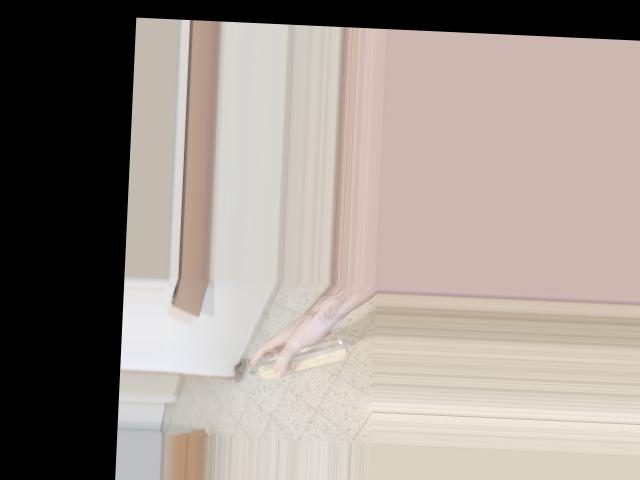cheese: (243, 309, 340, 394)
